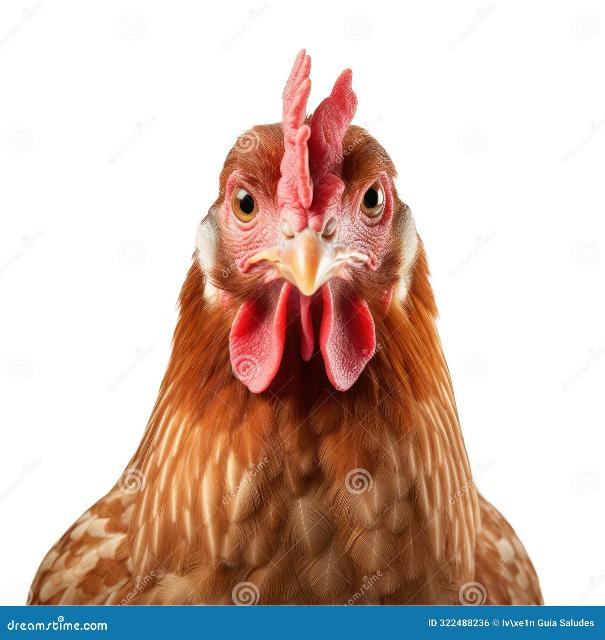Chicken: (29, 49, 547, 608)
